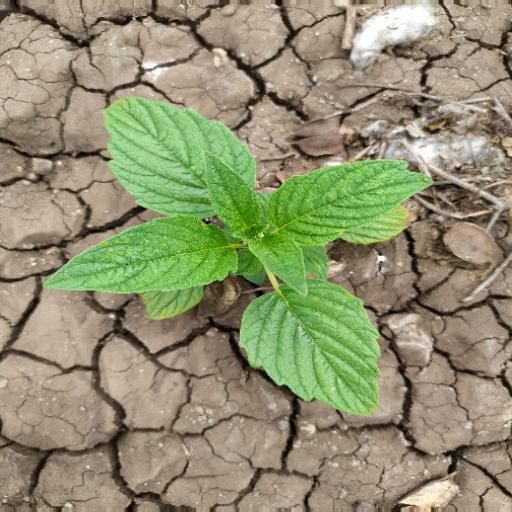crop: (46, 70, 430, 411)
